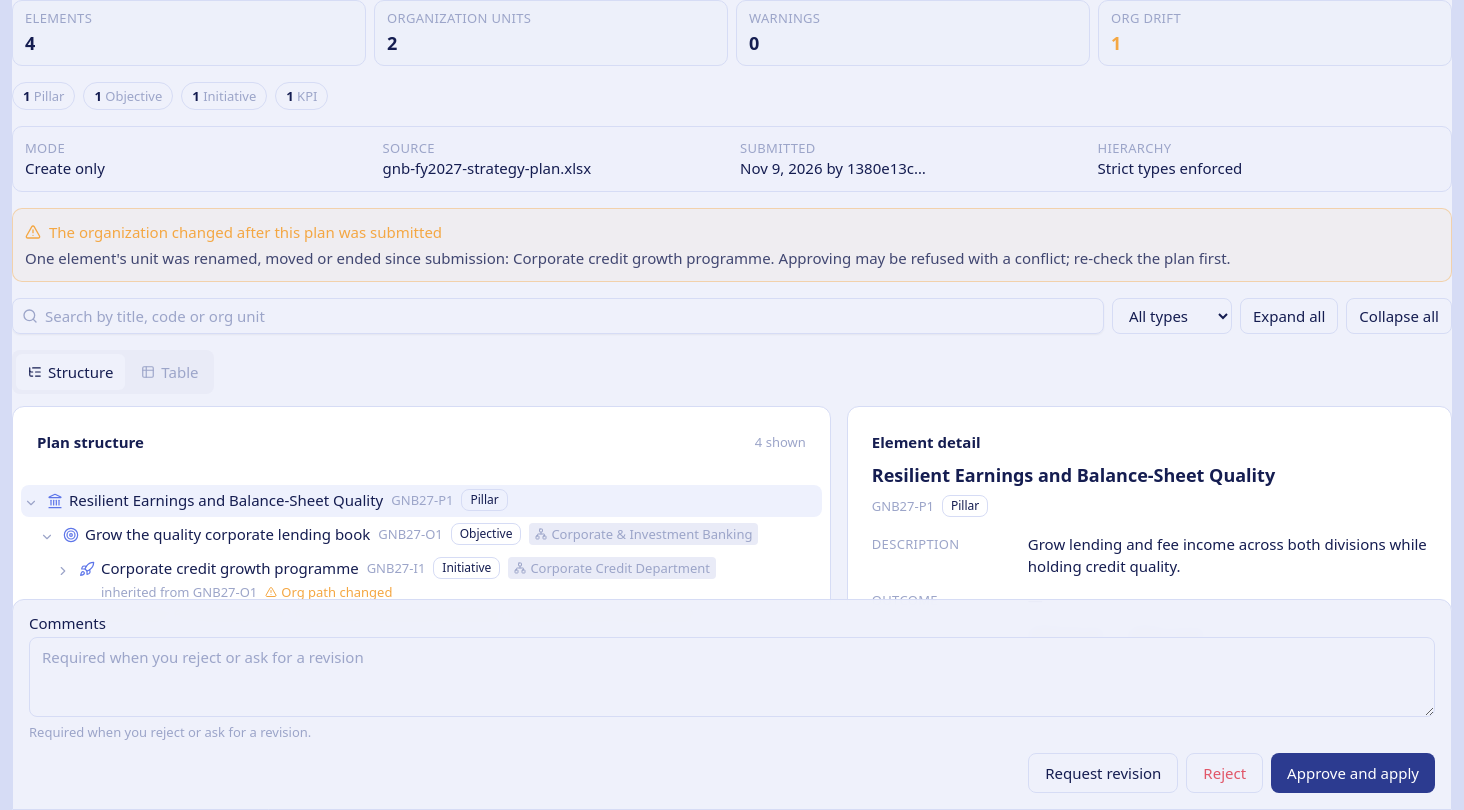
Test: BatchReviewView › offers a flat table view of the same plan
This screenshot has width=1464, height=810.
Press the mouse on the tab "Table" at x=170, y=372, box [129, 354, 210, 390]
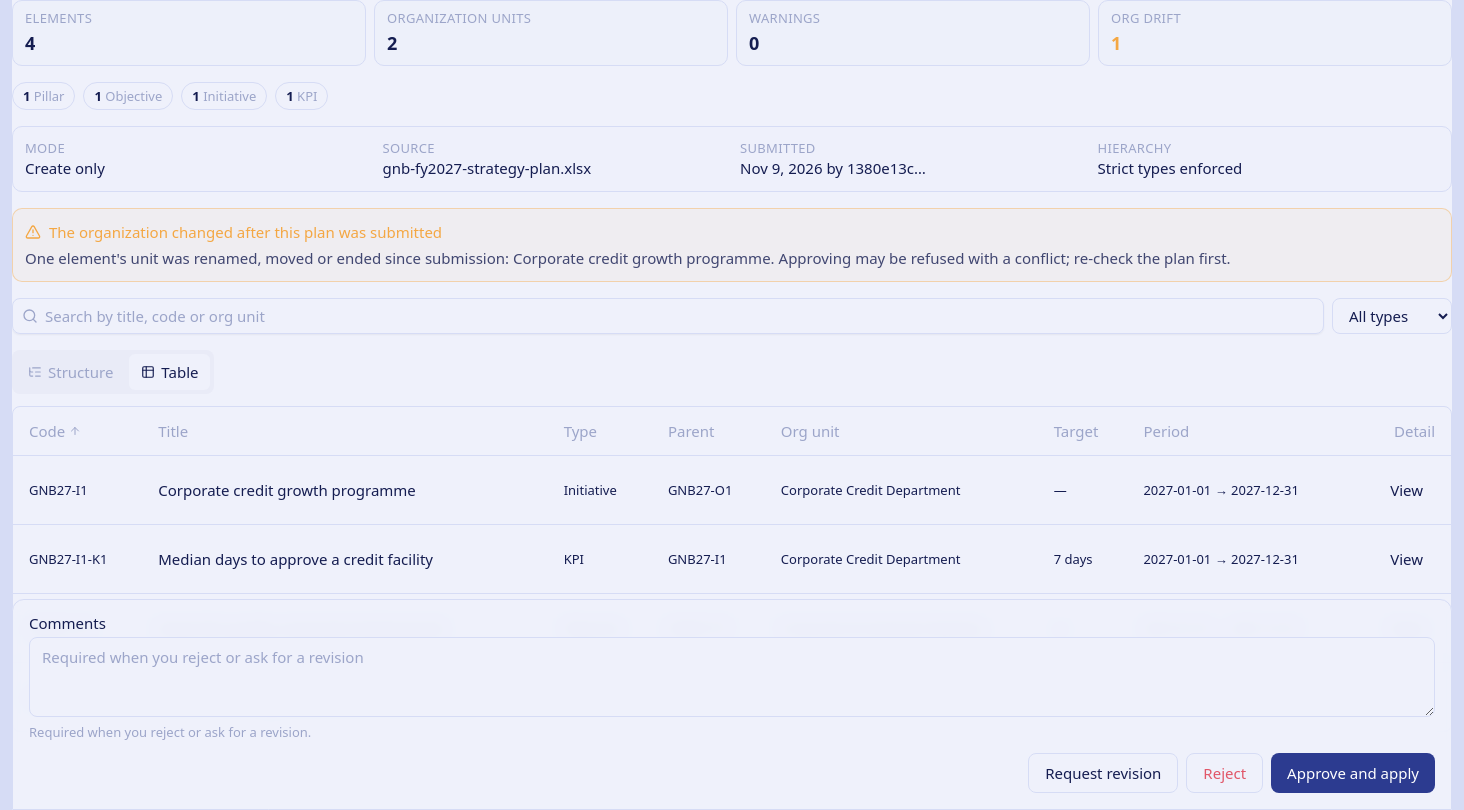
Result: the text "GNB27-I1-K1" is shown at [13, 524, 142, 593]
Result: the text "Median days to approve a credit facility" is shown at [142, 524, 548, 593]
Result: the text "7 days" is shown at [1038, 524, 1127, 593]
